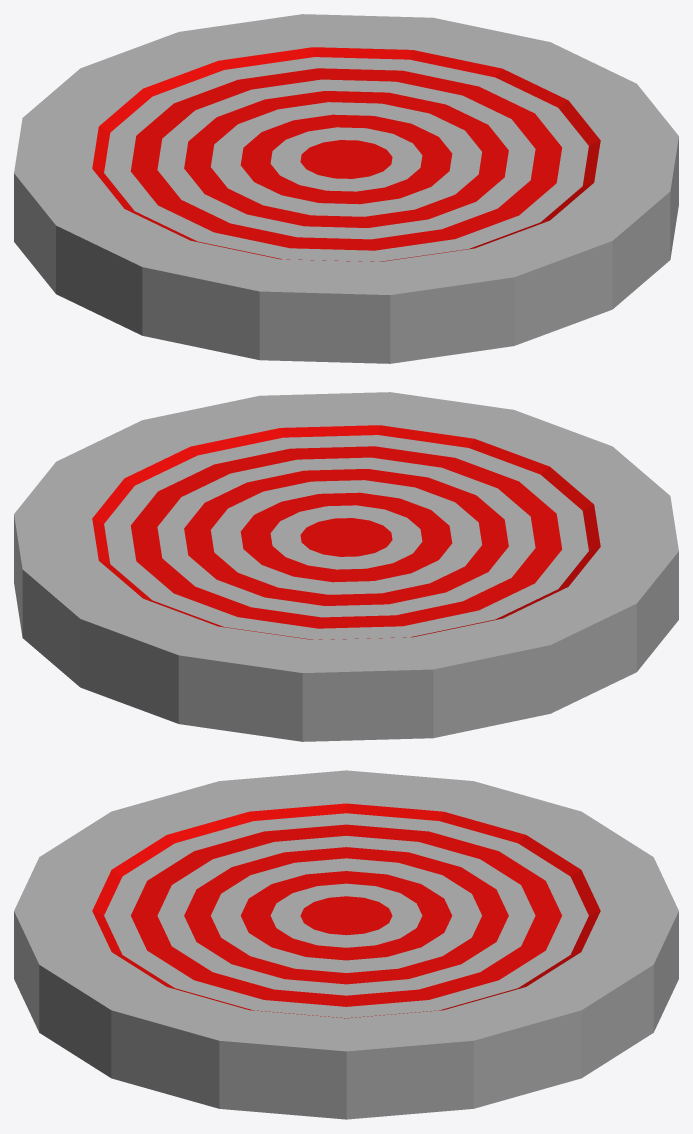
File: Rocket.fbx_Platform.fbx
3 views of the same model, one above another, from view 1: azimuth 30°, elevation 25°; view 2: azimuth 150°, elevation 25°; view 3: azimuth 270°, elevation 25° (orthographic).
Parts seen in each view (by area): view 1: Platform; view 2: Platform; view 3: Platform.
Boxes of the visible parts, box(x1,y1,x2,y2) form: Platform: box(14, 14, 678, 363); Platform: box(14, 392, 678, 741); Platform: box(14, 770, 678, 1119).
Bounding box in the file's own units: 200 × 22.61 × 200.
